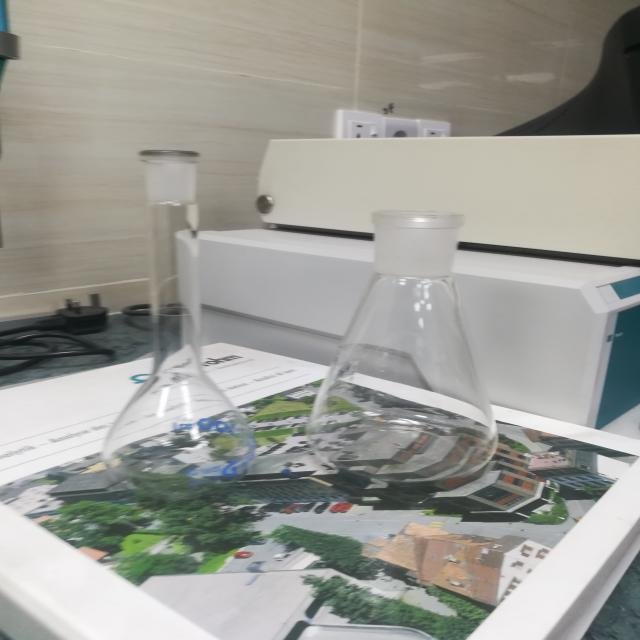Conical_Flask: (291, 173, 531, 512)
Volumetric_Flask: (97, 111, 268, 514)
